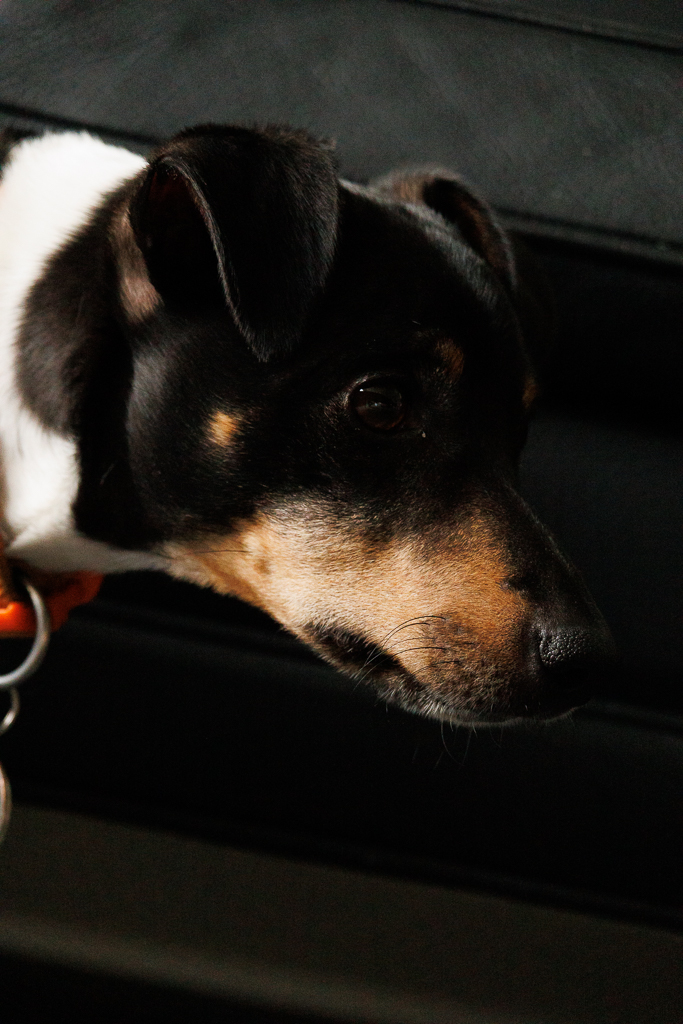Dog: (0, 103, 641, 882)
